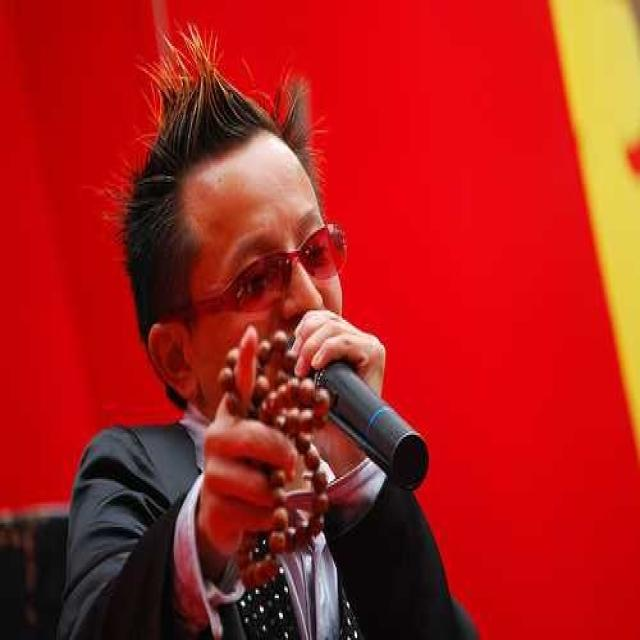microphone: (281, 331, 429, 496)
